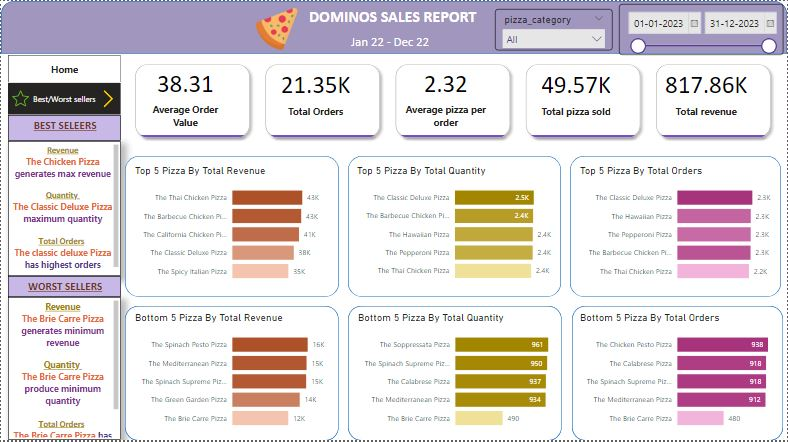

This screenshot's page, from the dashboard's own definition file:
{"tool":"powerbi","page":{"name":"Best/Worst sellers","canvas":[1310,732],"ordinal":1},"visuals":[{"type":"cardVisual","fields":{"Data":["Key measures.Average Order Value","Key measures.Total Orders","Key measures.Average pizza per order","Key measures.Total pizza sold","Key measures.Total revenue"]},"box":[206.4,87.8,1096.5,156.6],"z":0},{"type":"shape","box":[0,0,1310.3,87.8],"z":1000},{"type":"textbox","box":[508.6,5,771.4,44],"z":2000},{"type":"textbox","box":[577.6,49.8,646.5,38.1],"z":3000},{"type":"image","box":[0,5.7,918.6,82.9],"z":4000},{"type":"shape","box":[206.7,508.7,356.2,224.3],"z":5000},{"type":"shape","box":[577.6,508.7,356.2,224.3],"z":6000},{"type":"shape","box":[951.4,508.7,351.8,224.3],"z":7000},{"type":"slicer","fields":{"Values":["gds ps.pizza_category"]},"box":[822.8,13.2,196.2,68.8],"z":8000},{"type":"slicer","fields":{"Values":["gds ps.order_date"]},"box":[1029.2,4.4,273.8,84.9],"z":9000},{"type":"textbox","box":[11.7,233.3,188.3,225],"z":10000},{"type":"textbox","box":[11.7,493.3,188.3,238.3],"z":11000},{"type":"textbox","box":[11.7,458.3,188.3,35],"z":12000},{"type":"textbox","box":[11.7,190,188.3,43.3],"z":13000},{"type":"shape","box":[206.7,507.7,356.2,224.3],"z":14000},{"type":"shape","box":[577.6,507.7,356.2,224.3],"z":15000},{"type":"shape","box":[951.4,507.7,351.8,224.3],"z":16000},{"type":"shape","box":[206.7,258.3,356.7,235],"z":17000},{"type":"shape","box":[578.3,258.3,355,235],"z":18000},{"type":"shape","box":[948.3,258.3,351.7,235],"z":19000},{"type":"barChart","title":"Bottom 5 Pizza By Total Revenue","fields":{"Y":["Sum(gds ps.total_price)"],"Category":["gds ps.pizza_name"]},"box":[218.3,516.7,333.3,208.3],"z":20000},{"type":"barChart","title":"Top 5 Pizza By Total Revenue","fields":{"Y":["Sum(gds ps.total_price)"],"Category":["gds ps.pizza_name"]},"box":[218.3,271.7,333.3,208.3],"z":21000},{"type":"barChart","title":"Top 5 Pizza By Total Quantity","fields":{"Category":["gds ps.pizza_name"],"Y":["Key measures.Total pizza sold"]},"box":[588,272,334,208],"z":22000},{"type":"barChart","title":"Bottom 5 Pizza By Total Quantity","fields":{"Category":["gds ps.pizza_name"],"Y":["Key measures.Total pizza sold"]},"box":[590,516.7,333.3,208.3],"z":23000},{"type":"barChart","title":"Top 5 Pizza By Total Orders","fields":{"Category":["gds ps.pizza_name"],"Y":["Key measures.Total Orders"]},"box":[960,271.7,333.3,208.3],"z":24000},{"type":"barChart","title":"Bottom 5 Pizza By Total Orders","fields":{"Category":["gds ps.pizza_name"],"Y":["Key measures.Total Orders"]},"box":[960,516.7,333.3,208.3],"z":25000},{"type":"pageNavigator","box":[11.7,136.7,188.3,53.3],"z":26000},{"type":"pageNavigator","box":[11.7,90,188.3,46],"z":27000},{"type":"image","box":[158.3,144,41.7,39],"z":28000},{"type":"image","box":[11.7,143.3,41.7,38.3],"z":29000}]}

Visuals, with their boxes in screenshot pixels (x1, y1, x2, y2), scaled from the page's 1310x732 canvas onto the 788x442 screenshot:
cardVisual - Key measures.Average Order Value x Key measures.Total Orders: 124:53:784:148
shape: 0:0:787:53
textbox: 306:3:770:30
textbox: 347:30:736:53
image: 0:3:553:53
shape: 124:307:339:441
shape: 347:307:562:441
shape: 572:307:784:441
slicer - gds ps.pizza_category: 495:8:613:50
slicer - gds ps.order_date: 619:3:784:54
textbox: 7:141:120:277
textbox: 7:298:120:441
textbox: 7:277:120:298
textbox: 7:115:120:141
shape: 124:307:339:441
shape: 347:307:562:441
shape: 572:307:784:441
shape: 124:156:339:298
shape: 348:156:561:298
shape: 570:156:782:298
"Bottom 5 Pizza By Total Revenue" barChart: 131:312:332:438
"Top 5 Pizza By Total Revenue" barChart: 131:164:332:290
"Top 5 Pizza By Total Quantity" barChart: 354:164:555:290
"Bottom 5 Pizza By Total Quantity" barChart: 355:312:555:438
"Top 5 Pizza By Total Orders" barChart: 577:164:778:290
"Bottom 5 Pizza By Total Orders" barChart: 577:312:778:438
pageNavigator: 7:83:120:115
pageNavigator: 7:54:120:82
image: 95:87:120:110
image: 7:87:32:110
